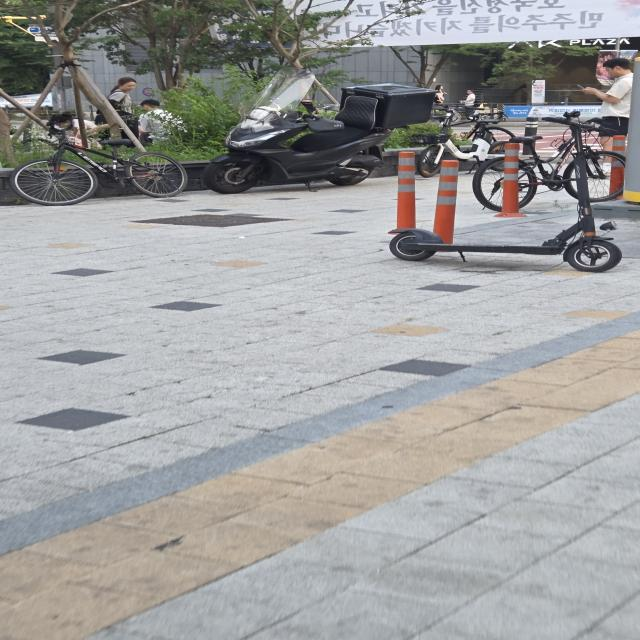bicycle: (34, 100, 190, 213), (470, 109, 624, 210), (411, 108, 522, 175)
motorcycle: (190, 71, 442, 208)
